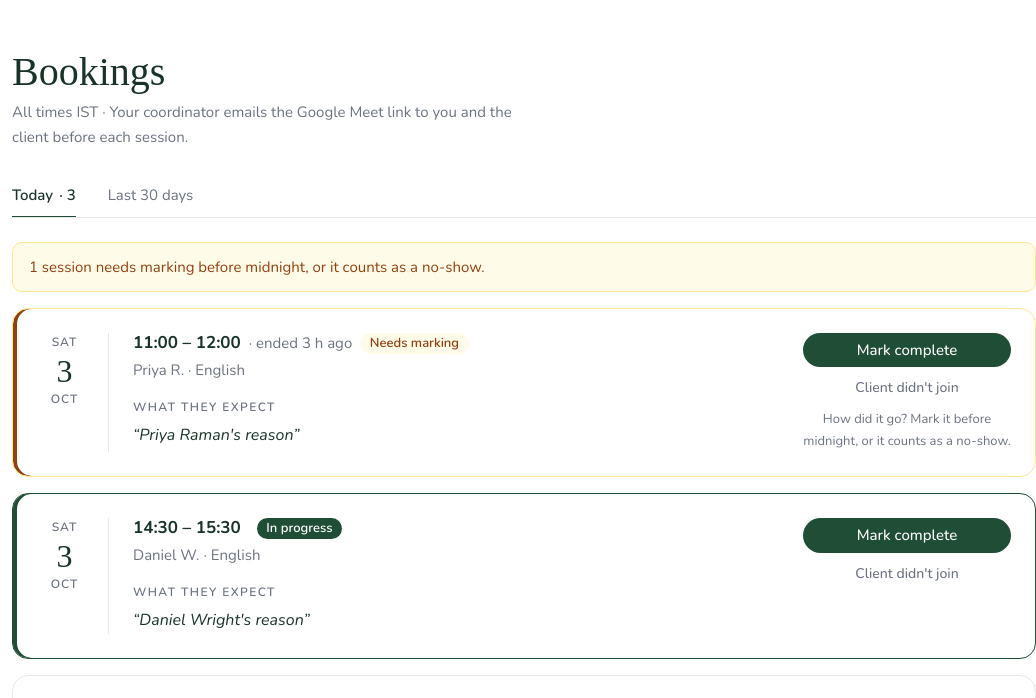
Test: BookingsPageComponent › keeps the session and explains when marking fails
Click the button with class "booking__complete" in the row of "In progress" at [907, 535], box x1=803 y1=518 x2=1011 y2=552
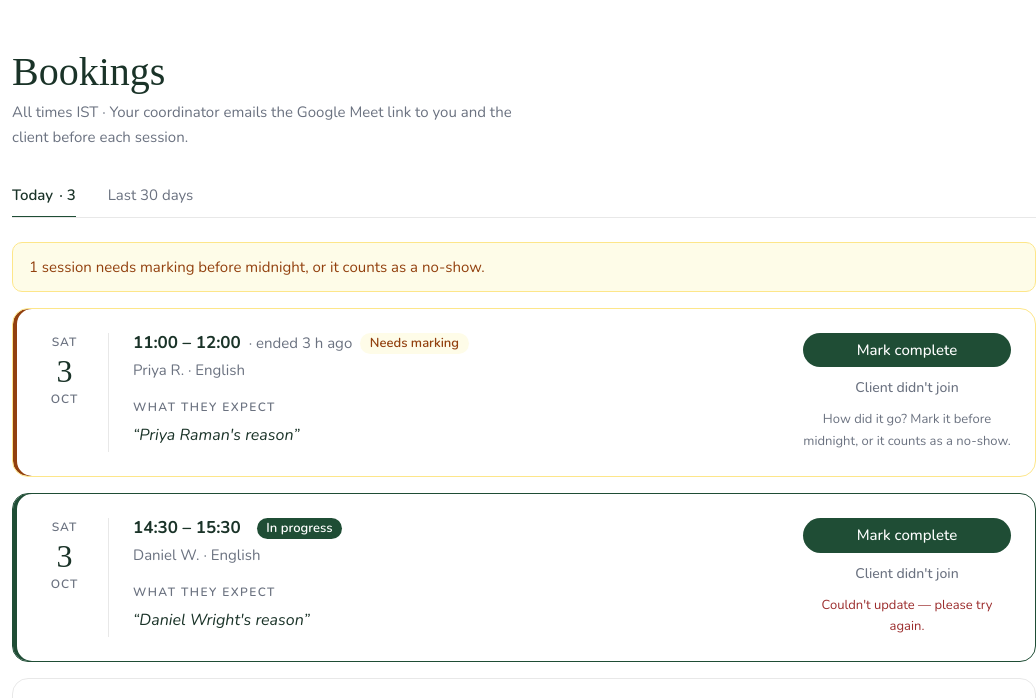
Expected: the message "Couldn't update — please try again." is shown, x1=822 y1=596 x2=992 y2=635
